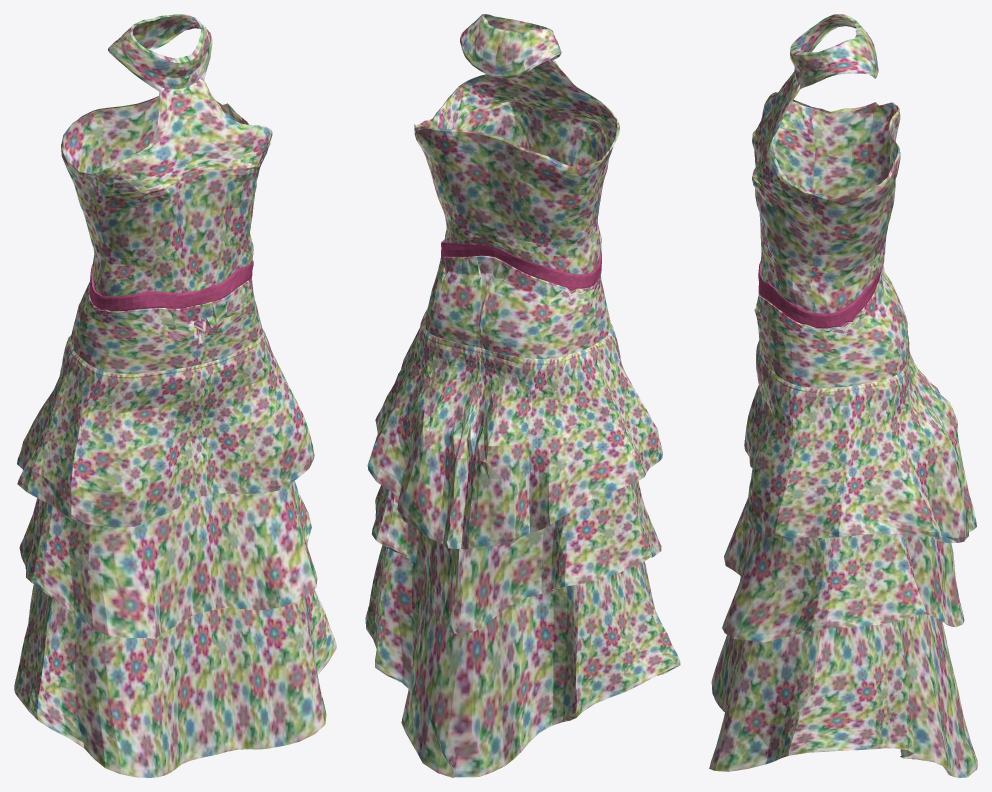
File: mhw_toigo_dress_with_tiered_skirt.glb
The picture shows the model from 3 angles, left to right: view 1: azimuth 30°, elevation 25°; view 2: azimuth 150°, elevation 25°; view 3: azimuth 270°, elevation 25°; orthographic projection. The views are drawn at different scales.
Parts seen in each view (by area): view 1: mhw_toigo_dress_with_tiered_skirt; view 2: mhw_toigo_dress_with_tiered_skirt; view 3: mhw_toigo_dress_with_tiered_skirt.
Boxes of the visible parts, bbox=[...] form: mhw_toigo_dress_with_tiered_skirt: bbox=[14, 14, 336, 777]; mhw_toigo_dress_with_tiered_skirt: bbox=[365, 14, 680, 777]; mhw_toigo_dress_with_tiered_skirt: bbox=[709, 14, 977, 777].
Bounding box in the file's own units: 0.644 × 1.48 × 0.4872.
Materials: 1 (1 with a texture image).
